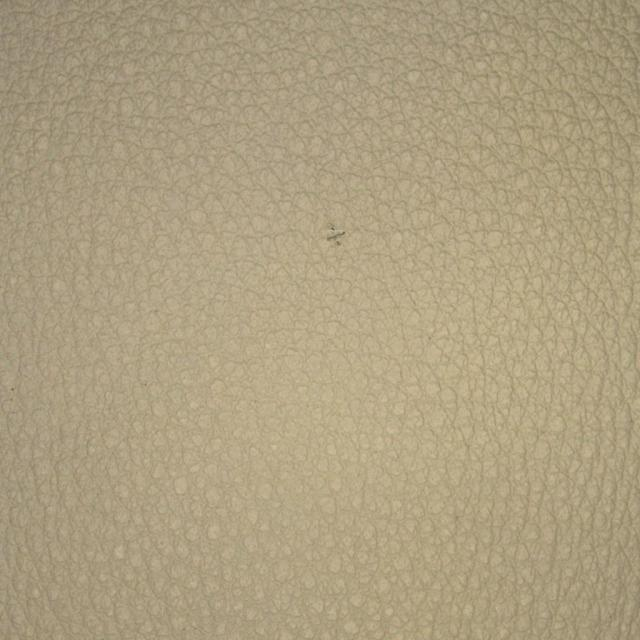Scratch: (271, 150, 404, 321)
